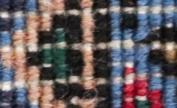Knot: (38, 33, 53, 43), (24, 65, 40, 74), (65, 49, 80, 58), (92, 49, 107, 58), (93, 77, 107, 86), (65, 8, 80, 16), (25, 56, 40, 64), (51, 42, 67, 49), (163, 65, 175, 74), (66, 75, 79, 83), (95, 34, 108, 42), (96, 90, 109, 98), (96, 6, 107, 15), (81, 89, 92, 98), (121, 20, 132, 29), (24, 45, 38, 52), (65, 16, 79, 23), (40, 78, 52, 86), (69, 66, 81, 74), (52, 16, 65, 23), (54, 76, 65, 84), (13, 79, 24, 87), (149, 49, 160, 57), (96, 100, 110, 106), (149, 42, 161, 49), (94, 70, 108, 76), (53, 86, 65, 93), (39, 72, 53, 78), (110, 99, 122, 106), (122, 6, 132, 14), (162, 20, 172, 28), (53, 7, 63, 15), (67, 84, 80, 90), (52, 27, 65, 33), (163, 42, 174, 49), (42, 86, 53, 93), (38, 101, 53, 106), (67, 43, 79, 49), (40, 43, 52, 49), (108, 6, 120, 12), (42, 61, 52, 68), (122, 31, 132, 38), (67, 97, 78, 103), (41, 56, 52, 62), (136, 6, 147, 12), (26, 101, 39, 106), (122, 41, 132, 47), (150, 6, 160, 12), (110, 41, 120, 47), (96, 42, 105, 48), (123, 14, 132, 20), (161, 6, 171, 11), (122, 101, 131, 106)
